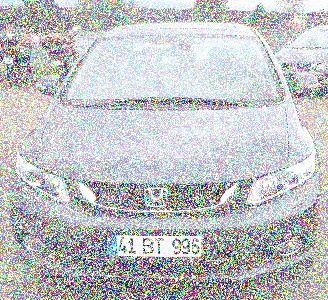plaka: (115, 232, 202, 256)
